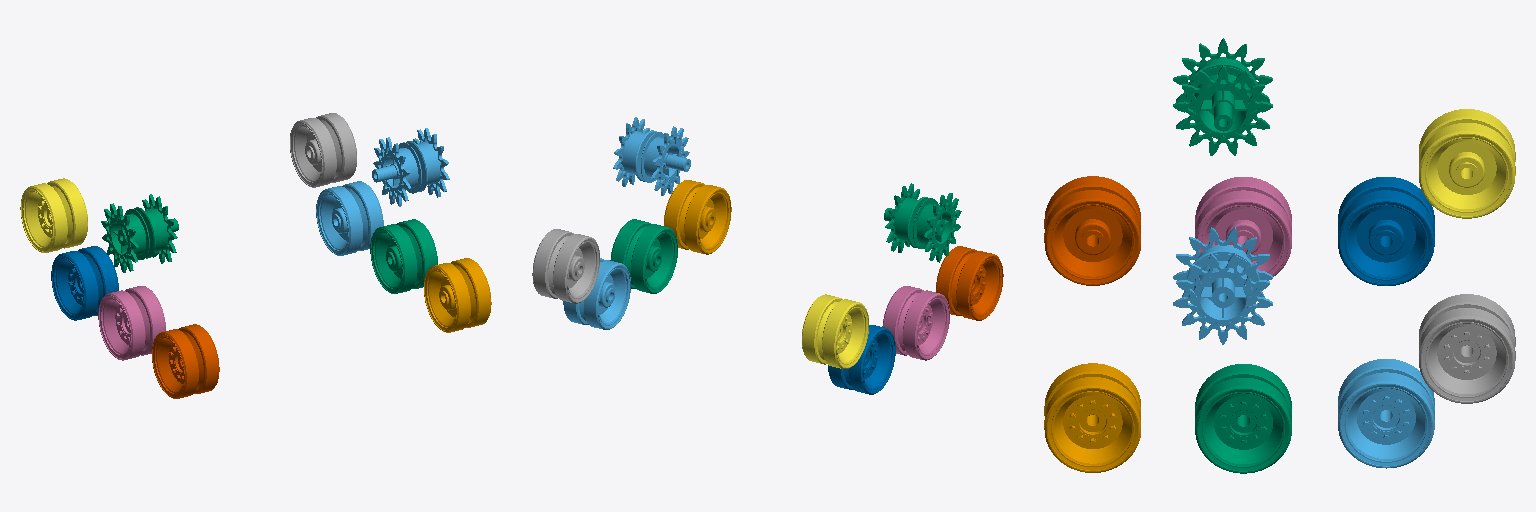
robot.urdf — DFRbot:
<?xml version='1.0' encoding='utf-8'?>
<robot name="DFRbot">
    <link name="base_link">
        <inertial>
            <origin xyz="-0.08316536589651169 -0.019644178306641058 -0.007641892965444989"
                rpy="0.0 0.0 0.0" />
            <mass value="1.5501778272883482" />
            <inertia ixx="0.00455964362186642" iyy="0.005129830164751709" izz="0.007993318308848016"
                ixy="8.6548194980593e-06" iyz="0.0003548756538293898" ixz="-1.0413670358950416e-05" />
        </inertial>
        <visual name="base_link_visual">
            <origin xyz="0.0 0.0 0.0" rpy="0.0 0.0 0.0" />
            <geometry>
                <mesh filename="../meshes/base_link.stl" scale="0.001 0.001 0.001" />
            </geometry>
        </visual>
        <collision name="base_link_collision">
            <origin xyz="0.0 0.0 0.0" rpy="0.0 0.0 0.0" />
            <geometry>
                <mesh filename="../meshes/base_link.stl" scale="0.001 0.001 0.001" />
            </geometry>
        </collision>
    </link>
    <link name="right_drive_sprocket">
        <inertial>
            <origin xyz="4.041040893021375e-09 1.4369512937707497e-05 0.02455129089491322"
                rpy="1.2469549982861393e-62 -0.0 0.0" />
            <mass value="0.09152151104684562" />
            <inertia ixx="1.312943021186723e-05" iyy="1.3125134949870743e-05"
                izz="1.102396481554491e-05" ixy="-1.364702215166449e-15"
                iyz="-1.0407888211876016e-09" ixz="1.0267434169943288e-17" />
        </inertial>
        <visual name="right_drive_sprocket_visual">
            <origin xyz="-0.003683312846951794 0.033058568904078316 0.0958176724476687"
                rpy="6.078575305090689e-16 -2.6599521792892063e-14 -1.5707963267948963" />
            <geometry>
                <mesh filename="../meshes/right_drive_sprocket.stl" scale="0.001 0.001 0.001" />
            </geometry>
        </visual>
        <collision name="right_drive_sprocket_collision">
            <origin xyz="-0.003683312846951794 0.033058568904078316 0.0958176724476687"
                rpy="6.078575305090689e-16 -2.6599521792892063e-14 -1.5707963267948963" />
            <geometry>
                <mesh filename="../meshes/right_drive_sprocket.stl" scale="0.001 0.001 0.001" />
            </geometry>
        </collision>
    </link>
    <link name="left_drive_sprocket">
        <inertial>
            <origin xyz="4.041038526025887e-09 1.4366010886163183e-05 0.024551290914634587"
                rpy="3.94430452610506e-31 -0.0 3.889384548663214e-62" />
            <mass value="0.09152151104684574" />
            <inertia ixx="1.3129430211868475e-05" iyy="1.312513494987214e-05"
                izz="1.1023964815545466e-05" ixy="-1.364227876715987e-15"
                iyz="-1.0407888212510166e-09" ixz="1.0191184439849799e-17" />
        </inertial>
        <visual name="left_drive_sprocket_visual">
            <origin xyz="-0.003683312846951634 -0.03305856890407353 -0.06983656251086988"
                rpy="-5.065392549852166e-16 1.3345386098308293e-14 1.5707963267948963" />
            <geometry>
                <mesh filename="../meshes/left_drive_sprocket.stl" scale="0.001 0.001 0.001" />
            </geometry>
        </visual>
        <collision name="left_drive_sprocket_collision">
            <origin xyz="-0.003683312846951634 -0.03305856890407353 -0.06983656251086988"
                rpy="-5.065392549852166e-16 1.3345386098308293e-14 1.5707963267948963" />
            <geometry>
                <mesh filename="../meshes/left_drive_sprocket.stl" scale="0.001 0.001 0.001" />
            </geometry>
        </collision>
    </link>
    <link name="left_road_wheel_1">
        <inertial>
            <origin xyz="2.8461329648621357e-09 3.064652016604441e-09 -0.00958088928816288"
                rpy="1.246954998286142e-62 -0.0 0.0" />
            <mass value="0.11216702343401005" />
            <inertia ixx="1.68783266885227e-05" iyy="1.6878326689367083e-05"
                izz="2.6216797929676883e-05" ixy="-1.3552527156068686e-18"
                iyz="-5.253236442911686e-19" ixz="6.441695322810937e-18" />
        </inertial>
        <visual name="left_road_wheel_1_visual">
            <origin xyz="0.07013659583942188 -0.10186776229084465 0.07010007530246995"
                rpy="1.5707963267948963 1.5707963267948881 0" />
            <geometry>
                <mesh filename="../meshes/left_road_wheel_1.stl" scale="0.001 0.001 0.001" />
            </geometry>
        </visual>
        <collision name="left_road_wheel_1_collision">
            <origin xyz="0.07013659583942188 -0.10186776229084465 0.07010007530246995"
                rpy="1.5707963267948963 1.5707963267948881 0" />
            <geometry>
                <mesh filename="../meshes/left_road_wheel_1.stl" scale="0.001 0.001 0.001" />
            </geometry>
        </collision>
    </link>
    <link name="left_road_wheel_2">
        <inertial>
            <origin xyz="4.519537069036517e-09 3.73821126053997e-09 0.009580889288162987"
                rpy="1.246954998286142e-62 -0.0 0.0" />
            <mass value="0.11216702343401003" />
            <inertia ixx="1.6878326688520098e-05" iyy="1.6878326689365782e-05"
                izz="2.6216797929678346e-05" ixy="2.7105054312136455e-19"
                iyz="-6.337438615397181e-19" ixz="-6.333275105562395e-18" />
        </inertial>
        <visual name="left_road_wheel_2_visual">
            <origin xyz="0.004355632642285125 0.09857161061744062 -0.07010007530246995"
                rpy="-1.570796326794897 -1.5707963267948883 0" />
            <geometry>
                <mesh filename="../meshes/left_road_wheel_2.stl" scale="0.001 0.001 0.001" />
            </geometry>
        </visual>
        <collision name="left_road_wheel_2_collision">
            <origin xyz="0.004355632642285125 0.09857161061744062 -0.07010007530246995"
                rpy="-1.570796326794897 -1.5707963267948883 0" />
            <geometry>
                <mesh filename="../meshes/left_road_wheel_2.stl" scale="0.001 0.001 0.001" />
            </geometry>
        </collision>
    </link>
    <link name="left_road_wheel_3">
        <inertial>
            <origin xyz="3.139740201163477e-10 -1.8478067342897475e-09 -0.00958088928816352"
                rpy="1.2469549982861418e-62 -0.0 0.0" />
            <mass value="0.11216702343401011" />
            <inertia ixx="1.68783266885214e-05" iyy="1.6878326689363614e-05"
                izz="2.6216797929676666e-05" ixy="-1.0842021724853126e-19"
                iyz="3.590493739155734e-20" ixz="4.988340699471015e-18" />
        </inertial>
        <visual name="left_road_wheel_3_visual">
            <origin xyz="-0.12222553924811966 0.026045975176996396 0.07010007530246949"
                rpy="1.5707963267948963 1.5707963267948917 0" />
            <geometry>
                <mesh filename="../meshes/left_road_wheel_3.stl" scale="0.001 0.001 0.001" />
            </geometry>
        </visual>
        <collision name="left_road_wheel_3_collision">
            <origin xyz="-0.12222553924811966 0.026045975176996396 0.07010007530246949"
                rpy="1.5707963267948963 1.5707963267948917 0" />
            <geometry>
                <mesh filename="../meshes/left_road_wheel_3.stl" scale="0.001 0.001 0.001" />
            </geometry>
        </collision>
    </link>
    <link name="left_road_wheel_4">
        <inertial>
            <origin xyz="-9.311303283965345e-10 1.4730904762672025e-09 -0.00958088928816327"
                rpy="1.2469549982861418e-62 -0.0 0.0" />
            <mass value="0.11216702343401005" />
            <inertia ixx="1.68783266885214e-05" iyy="1.687832668936535e-05"
                izz="2.6216797929680135e-05" ixy="2.168404344971221e-19"
                iyz="-1.8090497758856318e-19" ixz="5.524830873730051e-18" />
        </inertial>
        <visual name="left_road_wheel_4_visual">
            <origin xyz="-0.05801282256901676 -0.0387098860681079 0.07010007530246985"
                rpy="1.5707963267948963 1.5707963267948926 0" />
            <geometry>
                <mesh filename="../meshes/left_road_wheel_4.stl" scale="0.001 0.001 0.001" />
            </geometry>
        </visual>
        <collision name="left_road_wheel_4_collision">
            <origin xyz="-0.05801282256901676 -0.0387098860681079 0.07010007530246985"
                rpy="1.5707963267948963 1.5707963267948926 0" />
            <geometry>
                <mesh filename="../meshes/left_road_wheel_4.stl" scale="0.001 0.001 0.001" />
            </geometry>
        </collision>
    </link>
    <link name="right_road_wheel_1">
        <inertial>
            <origin xyz="2.846133098088899e-09 3.06465188781857e-09 0.009580889268442597"
                rpy="1.2469549982861416e-62 -0.0 -7.778769097326429e-62" />
            <mass value="0.11216702343400992" />
            <inertia ixx="1.687832668851904e-05" iyy="1.687832668936459e-05"
                izz="2.621679792967558e-05" ixy="-7.0473141211560475e-19"
                iyz="-1.2869003604066369e-18" ixz="-5.185713141155922e-18" />
        </inertial>
        <visual name="right_road_wheel_1_visual">
            <origin xyz="0.07013659583942143 -0.10186776229084438 0.09555415965607067"
                rpy="1.570796326794897 -1.57079632679489 0" />
            <geometry>
                <mesh filename="../meshes/right_road_wheel_1.stl" scale="0.001 0.001 0.001" />
            </geometry>
        </visual>
        <collision name="right_road_wheel_1_collision">
            <origin xyz="0.07013659583942143 -0.10186776229084438 0.09555415965607067"
                rpy="1.570796326794897 -1.57079632679489 0" />
            <geometry>
                <mesh filename="../meshes/right_road_wheel_1.stl" scale="0.001 0.001 0.001" />
            </geometry>
        </collision>
    </link>
    <link name="right_road_wheel_4">
        <inertial>
            <origin xyz="3.1397393129850573e-10 -1.8478075070049727e-09 0.00958088926844195"
                rpy="-3.94430452610506e-31 -0.0 0.0" />
            <mass value="0.11216702343400986" />
            <inertia ixx="1.6878326688519393e-05" iyy="1.6878326689361337e-05"
                izz="2.621679792966886e-05" ixy="-9.757819552369856e-19"
                iyz="3.6338682925404645e-18" ixz="-1.027822913419722e-17" />
        </inertial>
        <visual name="right_road_wheel_4_visual">
            <origin xyz="-0.12222553924811948 0.026045975176995792 0.09555415965606973"
                rpy="1.5707963267948966 -1.570796326794858 0" />
            <geometry>
                <mesh filename="../meshes/right_road_wheel_4.stl" scale="0.001 0.001 0.001" />
            </geometry>
        </visual>
        <collision name="right_road_wheel_4_collision">
            <origin xyz="-0.12222553924811948 0.026045975176995792 0.09555415965606973"
                rpy="1.5707963267948966 -1.570796326794858 0" />
            <geometry>
                <mesh filename="../meshes/right_road_wheel_4.stl" scale="0.001 0.001 0.001" />
            </geometry>
        </collision>
    </link>
    <link name="right_road_wheel_2">
        <inertial>
            <origin xyz="4.51953711788633e-09 3.73821126053997e-09 -0.009580889268442328"
                rpy="1.2469549982861416e-62 -0.0 7.778769097326429e-62" />
            <mass value="0.1121670234340099" />
            <inertia ixx="1.687832668851755e-05" iyy="1.687832668936448e-05"
                izz="2.6216797929676395e-05" ixy="-3.5236570605775716e-19"
                iyz="-2.1678146255511007e-18" ixz="6.114061251346646e-18" />
        </inertial>
        <visual name="right_road_wheel_2_visual">
            <origin xyz="0.004355632642284655 0.09857161061744041 -0.09555415965607052"
                rpy="-1.5707963267948963 1.57079632679489 0" />
            <geometry>
                <mesh filename="../meshes/right_road_wheel_2.stl" scale="0.001 0.001 0.001" />
            </geometry>
        </visual>
        <collision name="right_road_wheel_2_collision">
            <origin xyz="0.004355632642284655 0.09857161061744041 -0.09555415965607052"
                rpy="-1.5707963267948963 1.57079632679489 0" />
            <geometry>
                <mesh filename="../meshes/right_road_wheel_2.stl" scale="0.001 0.001 0.001" />
            </geometry>
        </collision>
    </link>
    <link name="right_road_wheel_3">
        <inertial>
            <origin xyz="-9.311300042114113e-10 1.473090405212929e-09 0.009580889268442062"
                rpy="-3.94430452610506e-31 -0.0 7.778769097326429e-62" />
            <mass value="0.11216702343401017" />
            <inertia ixx="1.6878326688521128e-05" iyy="1.6878326689365498e-05"
                izz="2.621679792968008e-05" ixy="4.0657581468204303e-19"
                iyz="-3.777102651728527e-19" ixz="-6.823500060994002e-18" />
        </inertial>
        <visual name="right_road_wheel_3_visual">
            <origin xyz="-0.05801282256901665 -0.03870988606810794 0.09555415965606998"
                rpy="1.570796326794897 -1.5707963267948937 0" />
            <geometry>
                <mesh filename="../meshes/right_road_wheel_3.stl" scale="0.001 0.001 0.001" />
            </geometry>
        </visual>
        <collision name="right_road_wheel_3_collision">
            <origin xyz="-0.05801282256901665 -0.03870988606810794 0.09555415965606998"
                rpy="1.570796326794897 -1.5707963267948937 0" />
            <geometry>
                <mesh filename="../meshes/right_road_wheel_3.stl" scale="0.001 0.001 0.001" />
            </geometry>
        </collision>
    </link>
    <joint name="base_link_left_drive_sprocket_joint" type="continuous">
        <origin xyz="-0.15266367999999983 -0.034741880000000995 0.006539760000000062"
            rpy="1.5707963267948937 -7.092844299934858e-16 -1.5707963267948912" />
        <parent link="base_link" />
        <child link="left_drive_sprocket" />
        <axis xyz="1.2645626016280148e-31 2.700138880472324e-15 -0.9999999999999999" />
    </joint>
    <joint name="base_link_right_drive_sprocket_joint" type="continuous">
        <origin xyz="-0.013663679999999827 -0.03474188000000015 0.006539760000000028"
            rpy="-1.5707963267948648 -7.092844299934858e-16 -1.5707963267948912" />
        <parent link="base_link" />
        <child link="right_drive_sprocket" />
        <axis xyz="-1.2645626016280148e-31 -3.202208621467934e-14 -0.9999999999999999" />
    </joint>
    <joint name="base_link_left_road_wheel_1_joint" type="continuous">
        <origin xyz="-0.16696368000000036 0.06963123999999911 -0.024013450000000033"
            rpy="-1.570796326794895 -7.092844299934858e-16 -1.5707963267948912" />
        <parent link="base_link" />
        <child link="left_road_wheel_1" />
        <axis xyz="-1.2645626016280148e-31 -1.7965940591173076e-15 -0.9999999999999999" />
    </joint>
    <joint name="base_link_left_road_wheel_2_joint" type="continuous">
        <origin xyz="-0.16546368000000009 0.035092679999999044 -0.055255860000000025"
            rpy="1.5707963267948981 -7.092844299934858e-16 -1.5707963267948912" />
        <parent link="base_link" />
        <child link="left_road_wheel_2" />
        <axis xyz="1.2645626016280148e-31 -1.7965940591173076e-15 -0.9999999999999999" />
    </joint>
    <joint name="base_link_left_road_wheel_3_joint" type="continuous">
        <origin xyz="-0.16796367999999975 -0.026022410000001096 -0.05650921999999998"
            rpy="-1.570796326794893 -7.092844299934858e-16 -1.5707963267948912" />
        <parent link="base_link" />
        <child link="left_road_wheel_4" />
        <axis xyz="-1.2645626016280148e-31 -3.848109180162378e-15 -0.9999999999999999" />
    </joint>
    <joint name="base_link_left_road_wheel_4_joint" type="continuous">
        <origin xyz="-0.16796367999999942 -0.09050670000000123 -0.05623764999999994"
            rpy="-1.570796326794893 -7.092844299934858e-16 -1.5707963267948912" />
        <parent link="base_link" />
        <child link="left_road_wheel_3" />
        <axis xyz="-1.2645626016280148e-31 -3.844841030998742e-15 -0.9999999999999999" />
    </joint>
    <joint name="base_link_right_road_wheel_4_joint" type="continuous">
        <origin xyz="0.0016363200000005975 -0.0905067000000002 -0.05623764999999998"
            rpy="-1.5707963267948937 -7.092844299934858e-16 -1.5707963267948912" />
        <parent link="base_link" />
        <child link="right_road_wheel_4" />
        <axis xyz="-1.2645626016280148e-31 -3.0943040121427453e-15 -0.9999999999999999" />
    </joint>
    <joint name="base_link_right_road_wheel_3_joint" type="continuous">
        <origin xyz="0.0016363200000002515 -0.026022410000000062 -0.05650922000000003"
            rpy="-1.5707963267948937 -7.092844299934858e-16 -1.5707963267948912" />
        <parent link="base_link" />
        <child link="right_road_wheel_3" />
        <axis xyz="-1.2645626016280148e-31 -3.0910358629791097e-15 -0.9999999999999999" />
    </joint>
    <joint name="base_link_right_road_wheel_2_joint" type="continuous">
        <origin xyz="-0.0008636800000000794 0.03509268000000005 -0.055255860000000066"
            rpy="1.5707963267949014 -7.092844299934858e-16 -1.5707963267948912" />
        <parent link="base_link" />
        <child link="right_road_wheel_2" />
        <axis xyz="1.2645626016280148e-31 -5.142550984024171e-15 -0.9999999999999999" />
    </joint>
    <joint name="base_link_right_road_wheel_1_joint" type="continuous">
        <origin xyz="0.0006363199999996732 0.06963124000000014 -0.02401345000000007"
            rpy="-1.5707963267948917 -7.092844299934858e-16 -1.5707963267948912" />
        <parent link="base_link" />
        <child link="right_road_wheel_1" />
        <axis xyz="-1.2645626016280148e-31 -5.142550984024171e-15 -0.9999999999999999" />
    </joint>
</robot>

--- Render facts (derived) ---
The picture shows the robot from 3 angles, left to right: view 1: azimuth 30°, elevation 25°; view 2: azimuth 150°, elevation 25°; view 3: azimuth 270°, elevation 25°; orthographic projection.
Model DFRbot with 11 links and 10 joints (10 continuous), rooted at base_link, posed all joints at 0.
Visible links, largest first — view 1: right_road_wheel_4, left_road_wheel_1, right_road_wheel_1, left_road_wheel_3, right_drive_sprocket, left_drive_sprocket, right_road_wheel_2, right_road_wheel_3, left_road_wheel_4, left_road_wheel_2; view 2: right_road_wheel_1, left_road_wheel_1, left_drive_sprocket, right_road_wheel_4, right_drive_sprocket, left_road_wheel_3, left_road_wheel_4, right_road_wheel_3, right_road_wheel_2, left_road_wheel_2; view 3: right_road_wheel_3, left_road_wheel_1, right_road_wheel_4, right_road_wheel_1, left_road_wheel_3, left_road_wheel_2, right_road_wheel_2, right_drive_sprocket, left_drive_sprocket, left_road_wheel_4.
Link boxes in pixels (box(x1,y1,x2,y2)): right_road_wheel_4: box(424, 258, 491, 332); left_road_wheel_1: box(20, 178, 87, 252); right_road_wheel_1: box(290, 113, 356, 187); left_road_wheel_3: box(152, 324, 219, 398); right_drive_sprocket: box(372, 128, 449, 206); left_drive_sprocket: box(101, 194, 178, 272); right_road_wheel_2: box(316, 181, 383, 255); right_road_wheel_3: box(370, 219, 437, 293); left_road_wheel_4: box(98, 286, 165, 360); left_road_wheel_2: box(51, 246, 118, 320); right_road_wheel_1: box(532, 229, 599, 303); left_road_wheel_1: box(802, 294, 868, 368); left_drive_sprocket: box(884, 183, 961, 262); right_road_wheel_4: box(664, 180, 731, 254); right_drive_sprocket: box(613, 117, 690, 195); left_road_wheel_3: box(936, 246, 1003, 320); left_road_wheel_4: box(882, 286, 949, 360); right_road_wheel_3: box(610, 219, 677, 293); right_road_wheel_2: box(563, 258, 630, 329); left_road_wheel_2: box(828, 325, 895, 394); right_road_wheel_3: box(1195, 364, 1291, 473); left_road_wheel_1: box(1419, 109, 1515, 218); right_road_wheel_4: box(1044, 363, 1140, 472); right_road_wheel_1: box(1419, 294, 1515, 403); left_road_wheel_3: box(1044, 176, 1140, 285); left_road_wheel_2: box(1338, 177, 1434, 285); right_road_wheel_2: box(1338, 359, 1434, 468); right_drive_sprocket: box(1173, 227, 1272, 344); left_drive_sprocket: box(1173, 38, 1272, 155); left_road_wheel_4: box(1195, 177, 1291, 276).
Size in the robot's own frame: 0.219 by 0.2016 by 0.1053 metres.
10 mesh visuals loaded from 11 distinct referenced files (10 binary STL); not drawn: 1 (reference not matched to a file when rendering).
